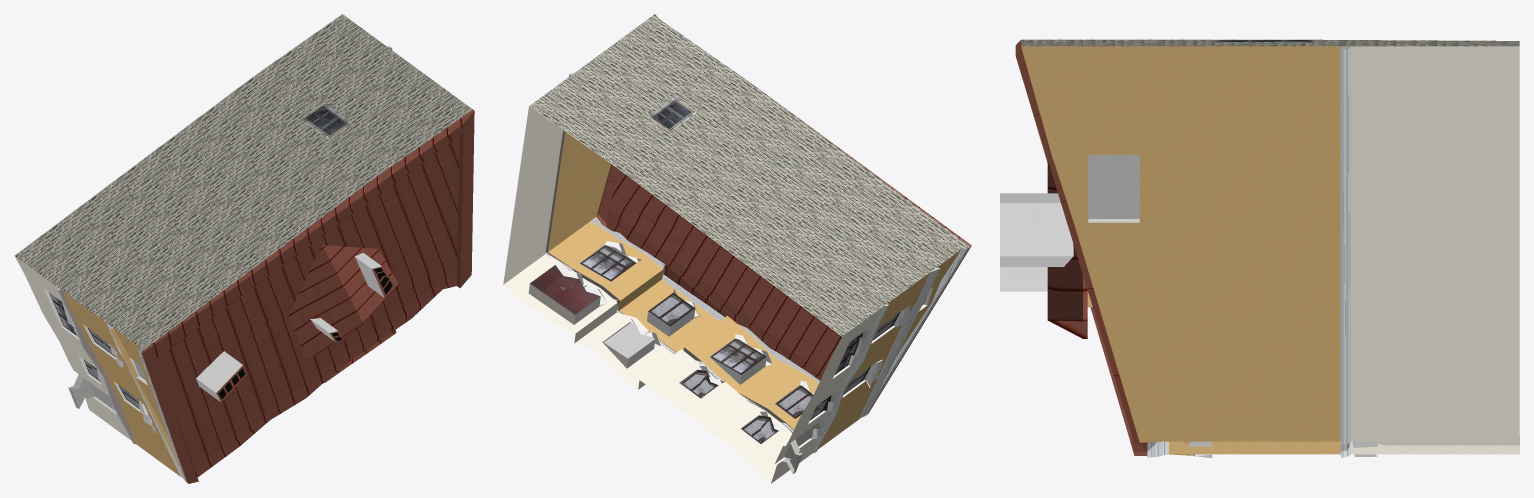
File: Suur-Kloostri_22_2-origo.obj
3 renders of one model, left to right at view 1: azimuth 30°, elevation 25°; view 2: azimuth 150°, elevation 25°; view 3: azimuth 270°, elevation 25°, orthographic. The views are drawn at different scales.
Visible parts, largest first — view 1: Suur_Kloostri_22_2; view 2: Suur_Kloostri_22_2; view 3: Suur_Kloostri_22_2.
Boxes of the visible parts, <box> form: Suur_Kloostri_22_2: <box>14,14,474,483</box>; Suur_Kloostri_22_2: <box>503,14,971,483</box>; Suur_Kloostri_22_2: <box>1000,39,1519,457</box>.
Bounding box in the file's own units: 17.62 × 15.5 × 11.46.
